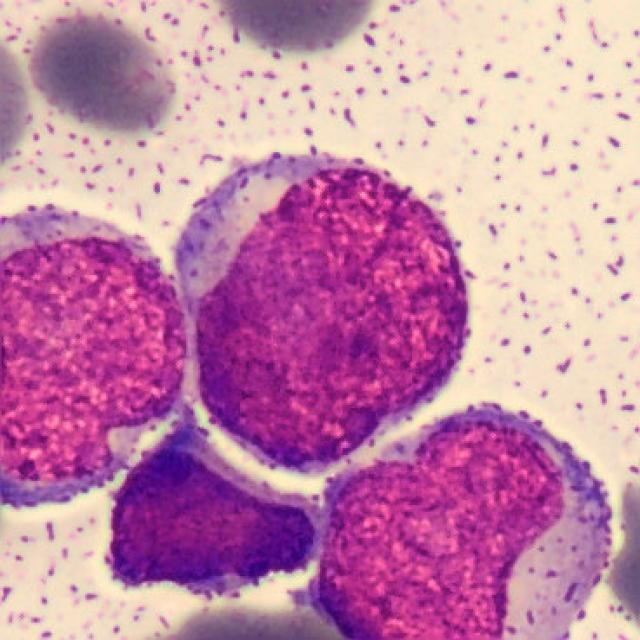Mieloblasto: (176, 156, 470, 474), (317, 406, 609, 640), (0, 209, 186, 509), (108, 427, 317, 597)
